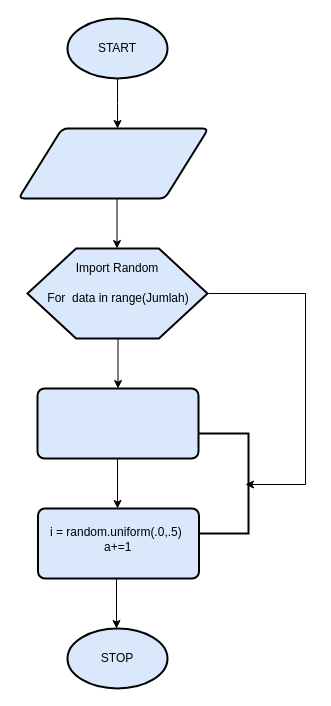
Image size: 331x706. Some labels were removed from this diagram. The shapes that lost their labels are listed below. From the top down, each one's centre as x and y in pixels, then its label:
point 113,163: Masukkan Nilai N = 5
point 117,423: Import Random Print("Data bilangan acak ke",a+1"=")
